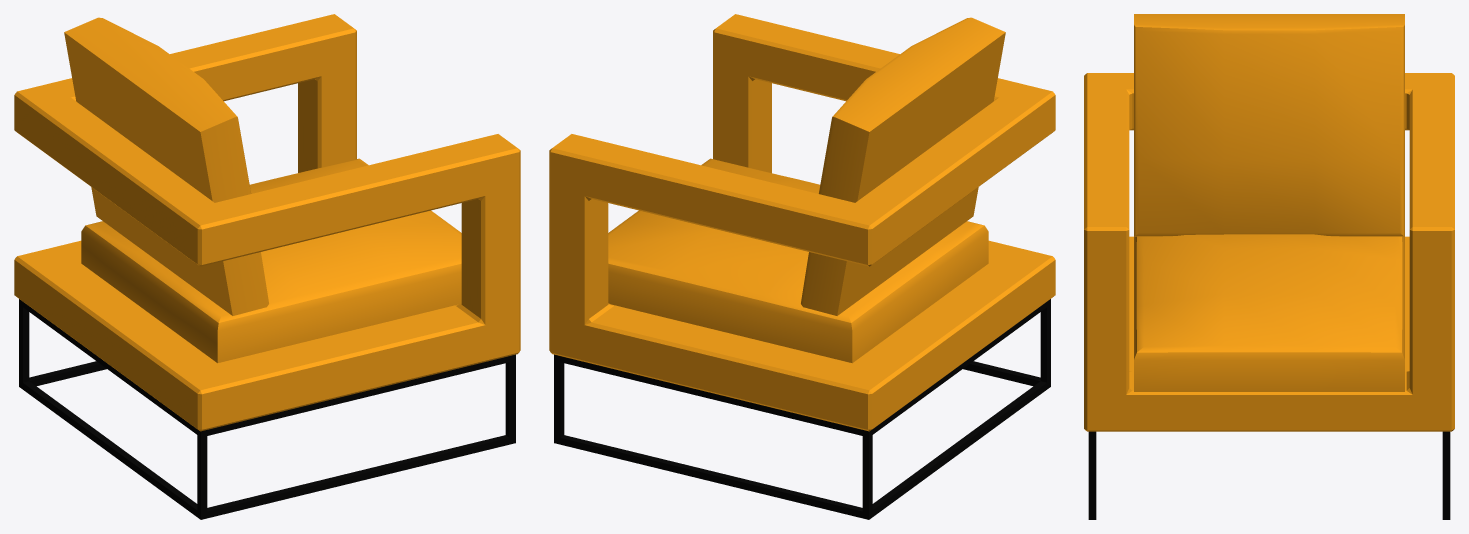
Rendered from Chair 1 Yellow.glb.
The picture shows the model from 3 angles, left to right: view 1: azimuth 30°, elevation 25°; view 2: azimuth 150°, elevation 25°; view 3: azimuth 270°, elevation 25°; orthographic projection.
Parts seen in each view (by area): view 1: Chair 1; view 2: Chair 1; view 3: Chair 1.
Part boxes in pixels (x1,y1,x2,y2): Chair 1: [14, 14, 520, 519]; Chair 1: [549, 14, 1055, 519]; Chair 1: [1084, 14, 1454, 519].
Size of what is drawn, in the model's own units: 1.25 by 1.38 by 1.25.
1 material, 1 textured.
